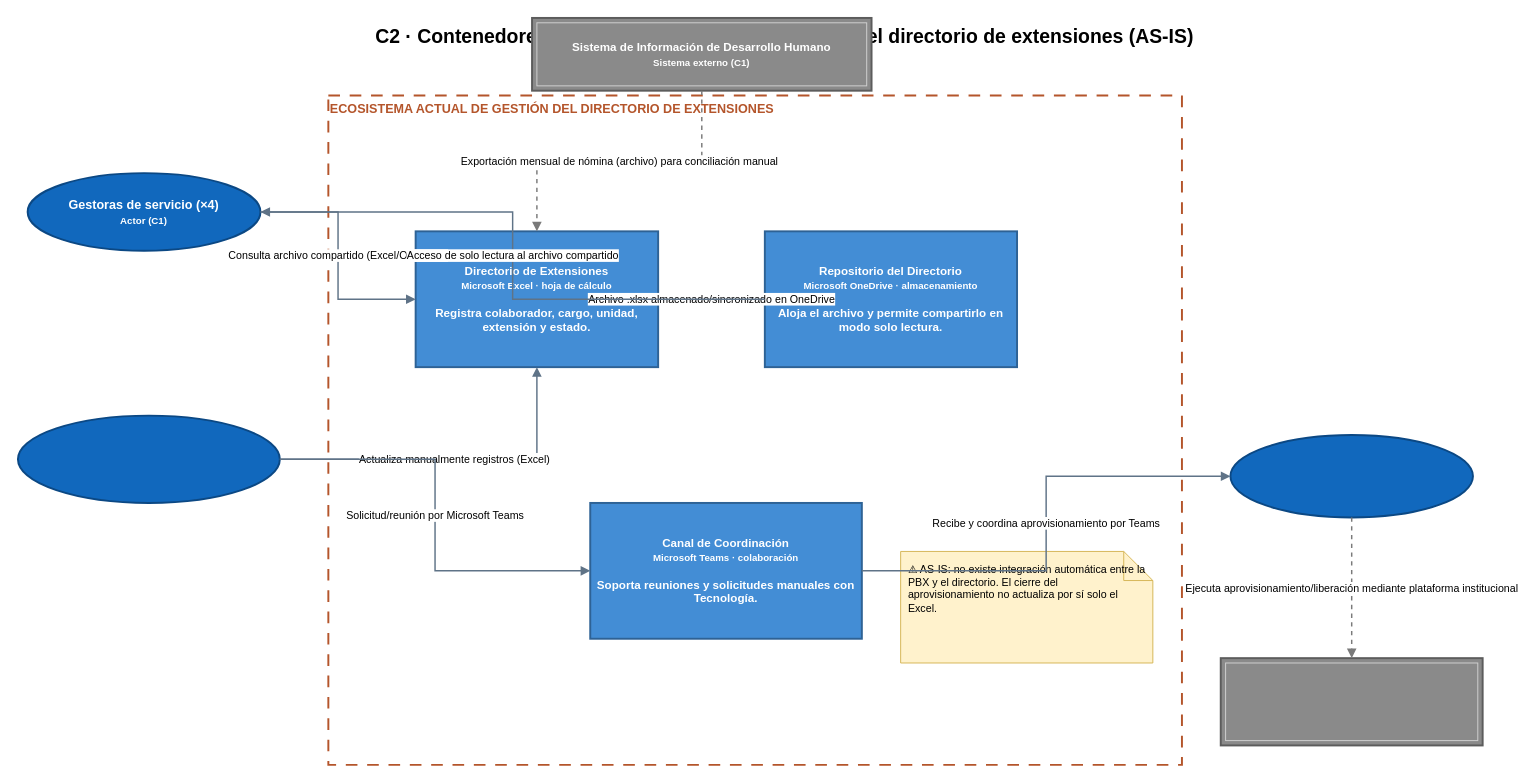
Some shapes in this 1535 by 782 pixel diagram are drawn without their labels. The centre of each missing label's shape, as x and y in pixels:
"Analista de Aprovisionamiento Actor (C1)" belongs at point (1351, 476).
"Plataforma PBX institucional Sistema externo (C1)" belongs at point (1351, 701).
"Profesional de Experiencia y Servicio Actor (C1)" belongs at point (148, 458).
